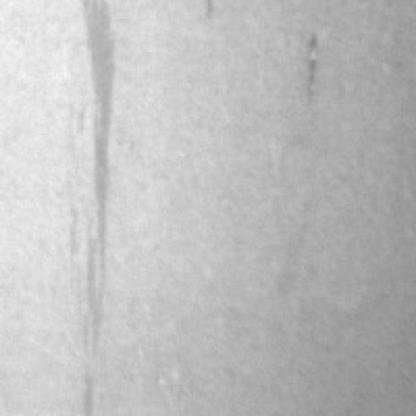inclusion: (63, 0, 127, 370), (296, 25, 328, 110)
